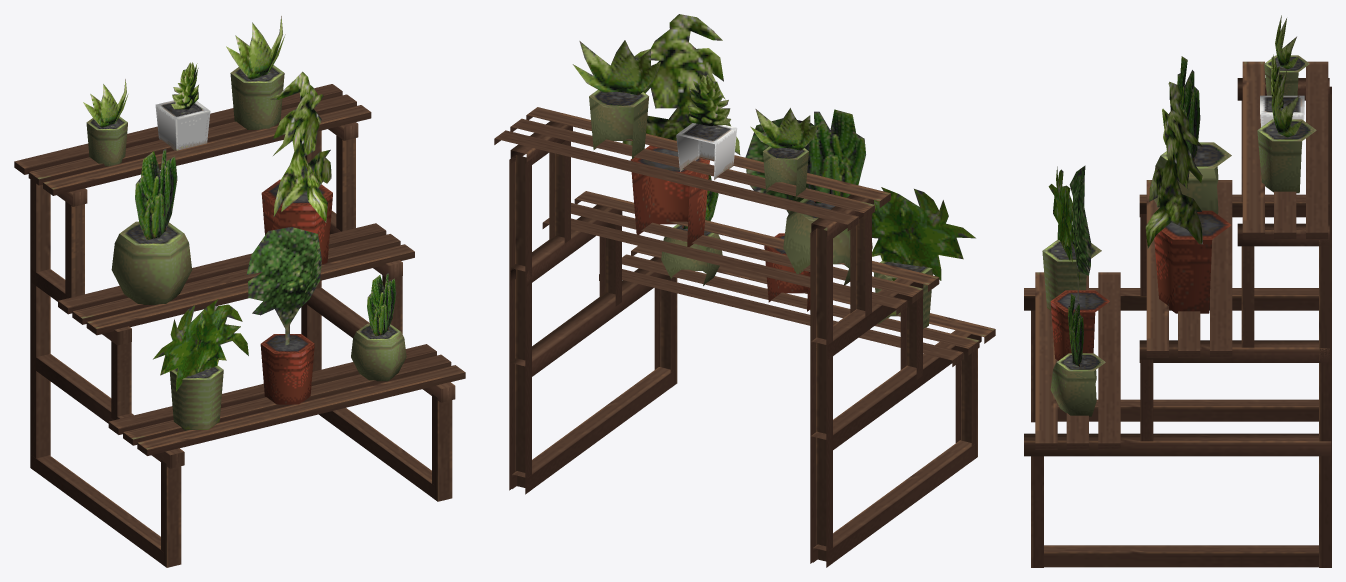
The model's file is hbxz_wj017_04.FBX.
3 renders of one model, left to right at view 1: azimuth 30°, elevation 25°; view 2: azimuth 150°, elevation 25°; view 3: azimuth 270°, elevation 25°, orthographic. The views are drawn at different scales.
Visible parts, largest first — view 1: hbxz_wj017_04; view 2: hbxz_wj017_04; view 3: hbxz_wj017_04.
Boxes of the visible parts, box(x1,y1,x2,y2) form: hbxz_wj017_04: box(14, 16, 465, 567); hbxz_wj017_04: box(494, 14, 995, 567); hbxz_wj017_04: box(1024, 15, 1331, 567).
Size of the model in its own units: 92.41 by 114 by 70.36.
Materials: 1 (1 with a texture image).
